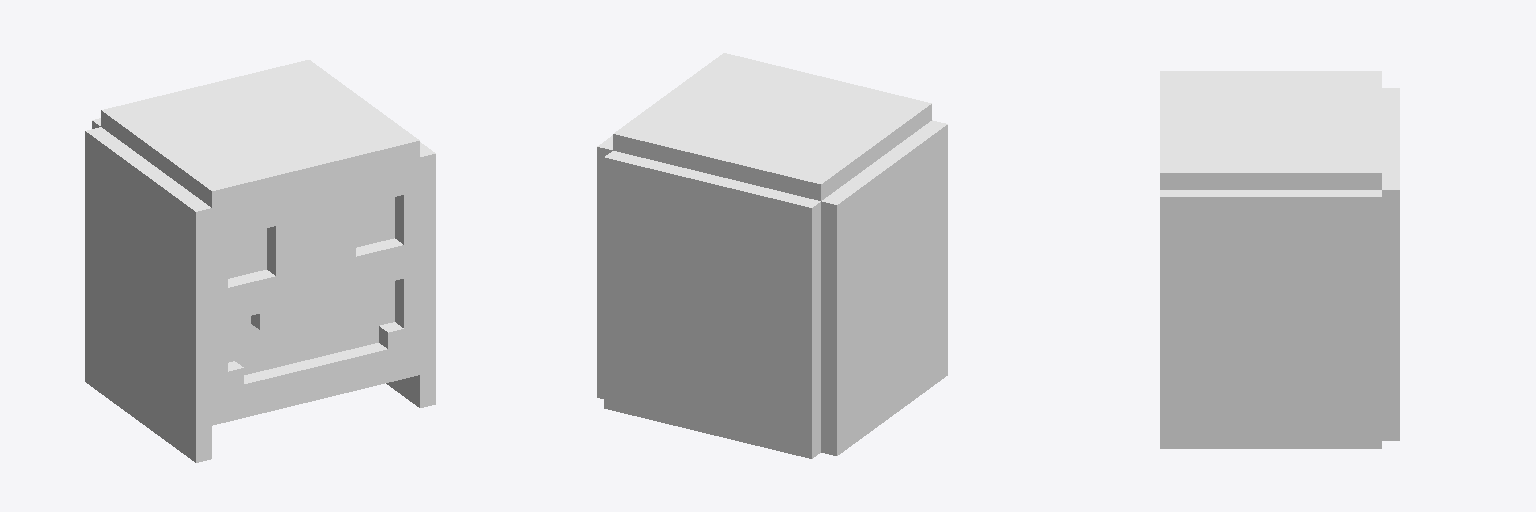
File: granny_head.obj
3 views of the same model, side by side, from view 1: azimuth 30°, elevation 25°; view 2: azimuth 150°, elevation 25°; view 3: azimuth 270°, elevation 25° (orthographic).
Visible parts, largest first — view 1: object 1; view 2: object 1; view 3: object 1.
Part boxes in pixels (left/top/right/bottom): object 1: left=85, top=60, right=435, bottom=462; object 1: left=597, top=53, right=947, bottom=458; object 1: left=1160, top=71, right=1399, bottom=448.
Size of the model in its own units: 1.5 by 1.6 by 1.3.